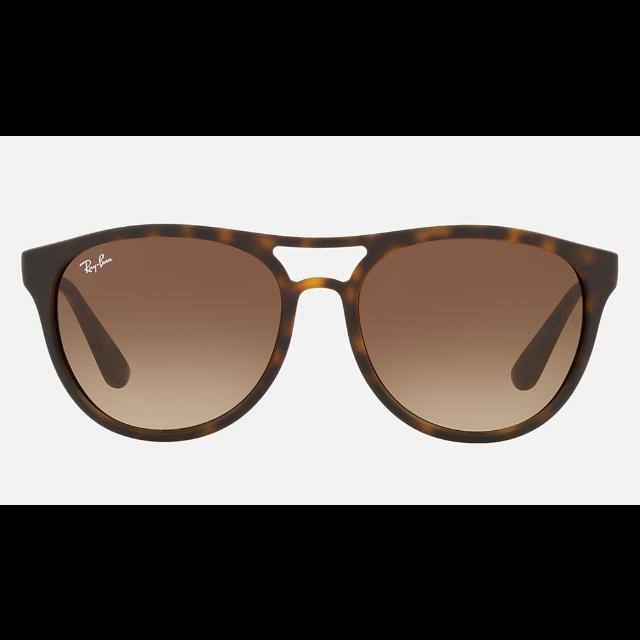Sunglasses: (19, 221, 622, 444)
